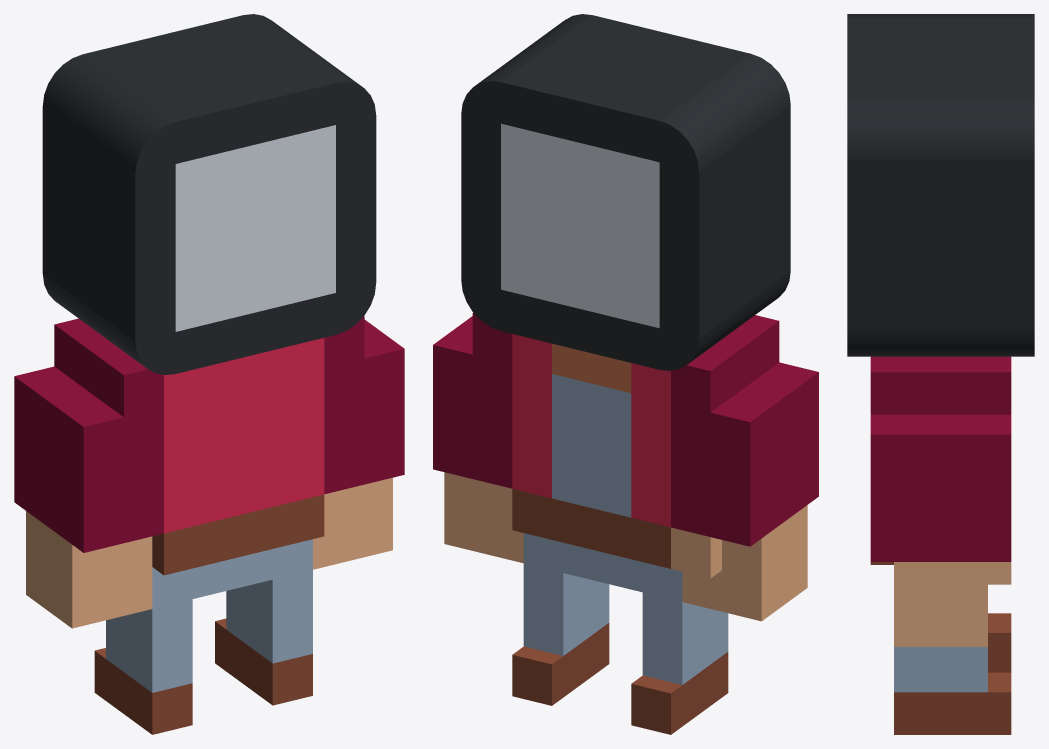
The model's file is character.fbx.
3 renders of one model, left to right at view 1: azimuth 30°, elevation 25°; view 2: azimuth 150°, elevation 25°; view 3: azimuth 270°, elevation 25°, orthographic. The views are drawn at different scales.
Parts seen in each view (by area): view 1: generated; view 2: generated; view 3: generated.
Part boxes in pixels (x1,y1,x2,y2): generated: (14, 14, 404, 734); generated: (433, 14, 818, 734); generated: (847, 14, 1034, 734).
Bounding box in the file's own units: 80 × 150 × 40.
